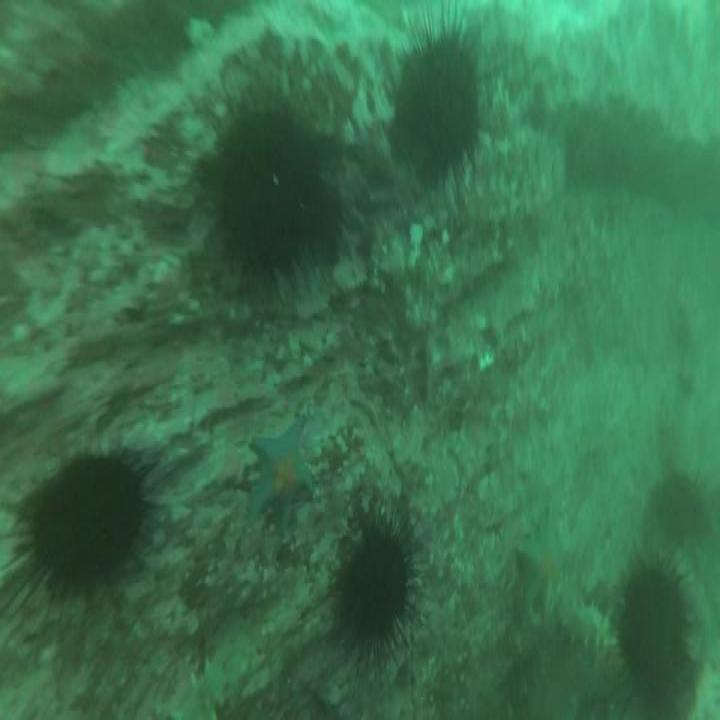echinus: (3, 437, 160, 640), (203, 96, 341, 304), (386, 4, 489, 196), (331, 496, 427, 670), (616, 551, 692, 704), (649, 462, 705, 555)
holothurian: (551, 581, 614, 665)
starfish: (240, 412, 318, 548)
